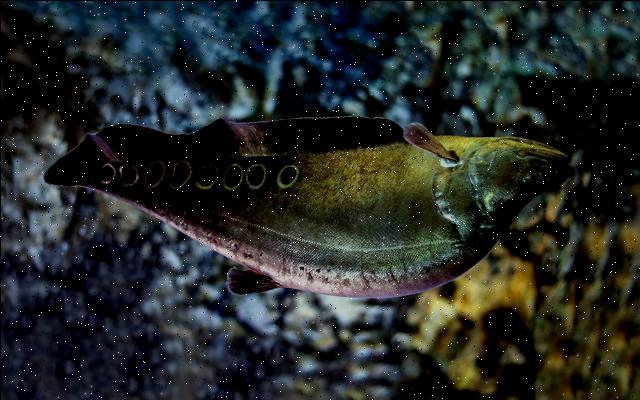Mulut: (510, 133, 580, 192)
Sirip Dada: (398, 113, 464, 166)
Sirip Punggung: (206, 258, 284, 302)
